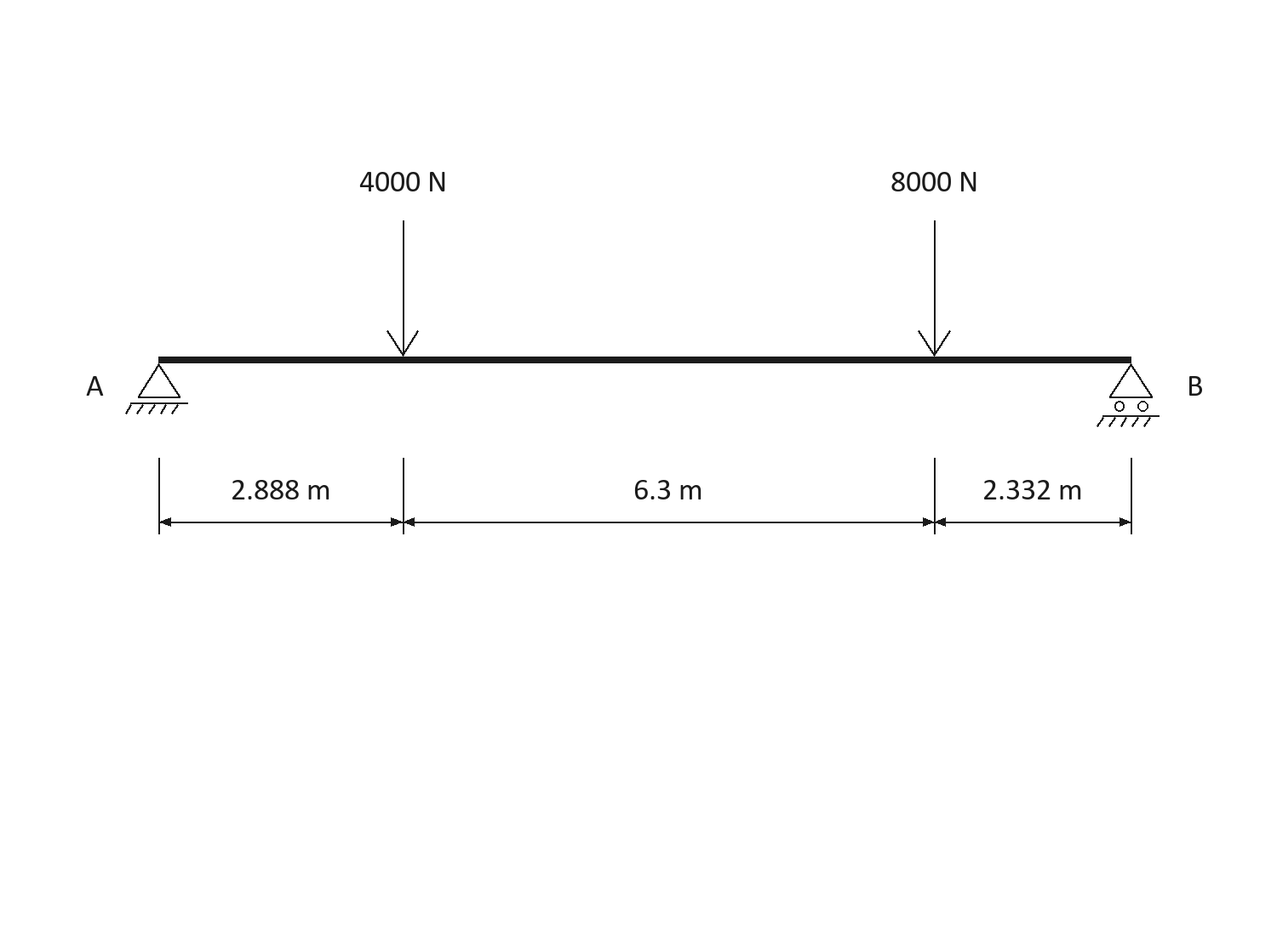pin_support: (125, 363, 188, 414)
point_load: (918, 220, 951, 357), (387, 220, 419, 357)
roller_support: (1097, 363, 1160, 427)
